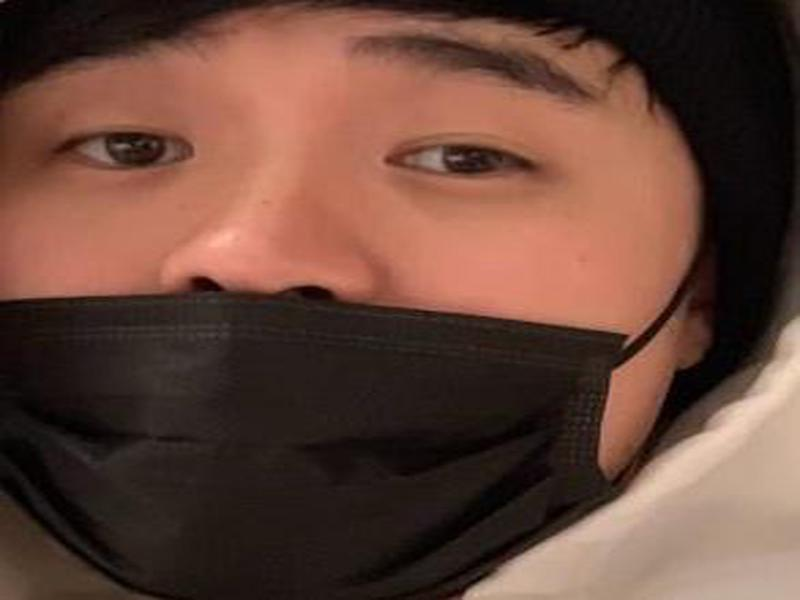with_mask: (1, 1, 706, 600)
